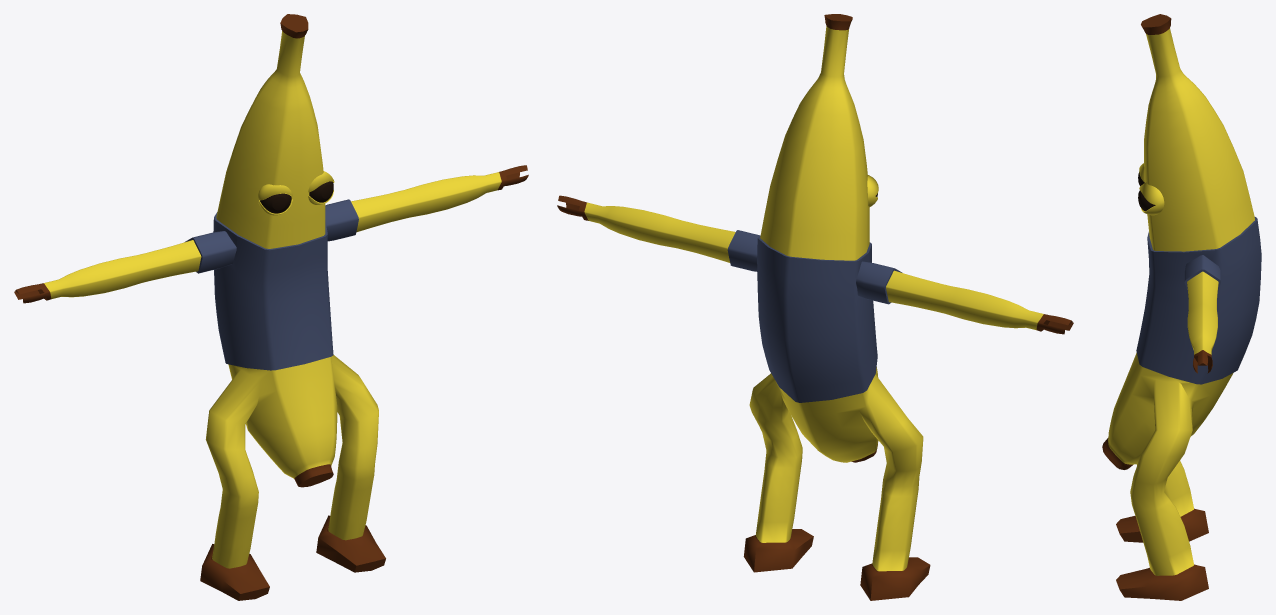
File: Banana T-Shirt.fbx
3 views of the same model, side by side, from view 1: azimuth 30°, elevation 25°; view 2: azimuth 150°, elevation 25°; view 3: azimuth 270°, elevation 25° (orthographic).
Visible parts, largest first — view 1: Banana; view 2: Banana; view 3: Banana, Eyelid.R.
Boxes of the visible parts, <box> form: Banana: <box>14,14,528,600</box>; Banana: <box>557,14,1073,600</box>; Banana: <box>1102,14,1261,600</box>; Eyelid.R: <box>1139,182,1164,215</box>.
Bounding box in the file's own units: 875 × 904 × 240.
